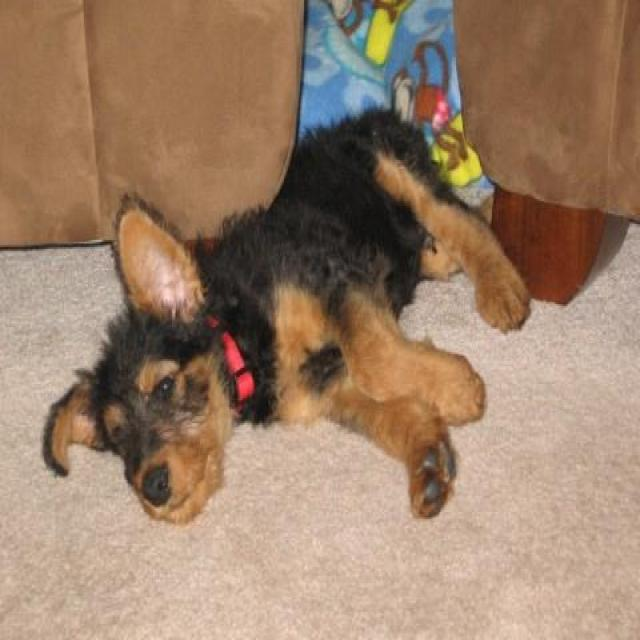airedale: (38, 107, 530, 524)
